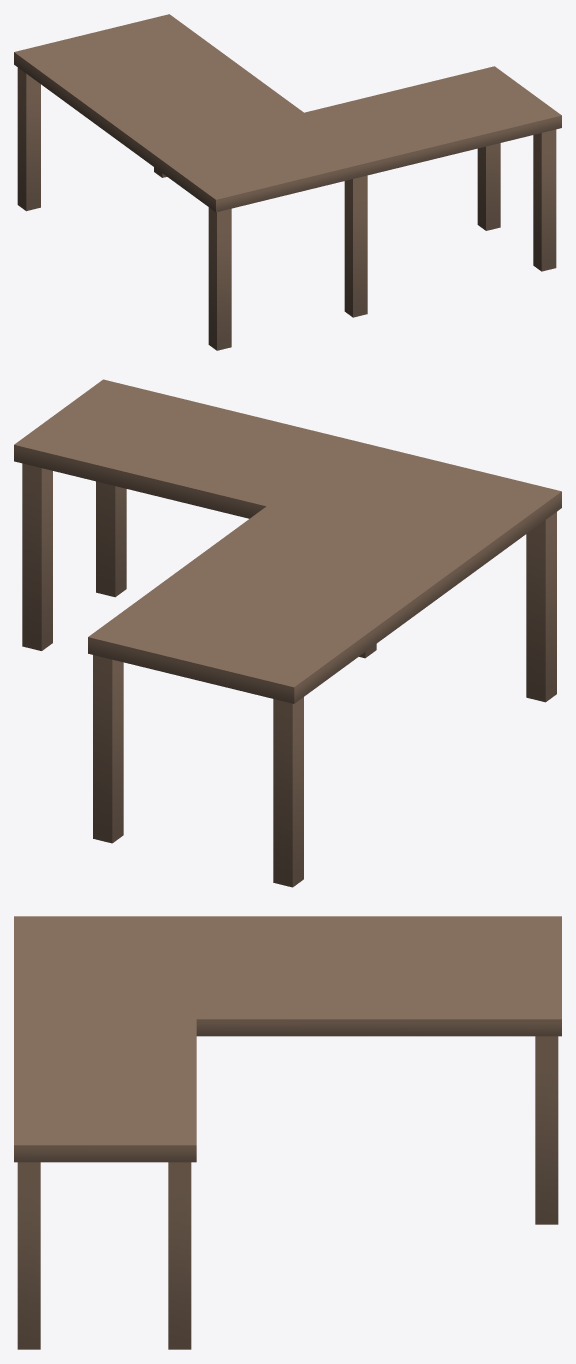
File: Desk.FBX
3 views of the same model, one above another, from view 1: azimuth 30°, elevation 25°; view 2: azimuth 150°, elevation 25°; view 3: azimuth 270°, elevation 25° (orthographic). The views are drawn at different scales.
Visible parts, largest first — view 1: Desk; view 2: Desk; view 3: Desk.
Part boxes in pixels (x1=…): Desk: x1=14, y1=14, x2=561, y2=350; Desk: x1=14, y1=379, x2=561, y2=887; Desk: x1=14, y1=916, x2=561, y2=1349.
Size of the model in its own units: 70.08 by 29.53 by 70.87.
